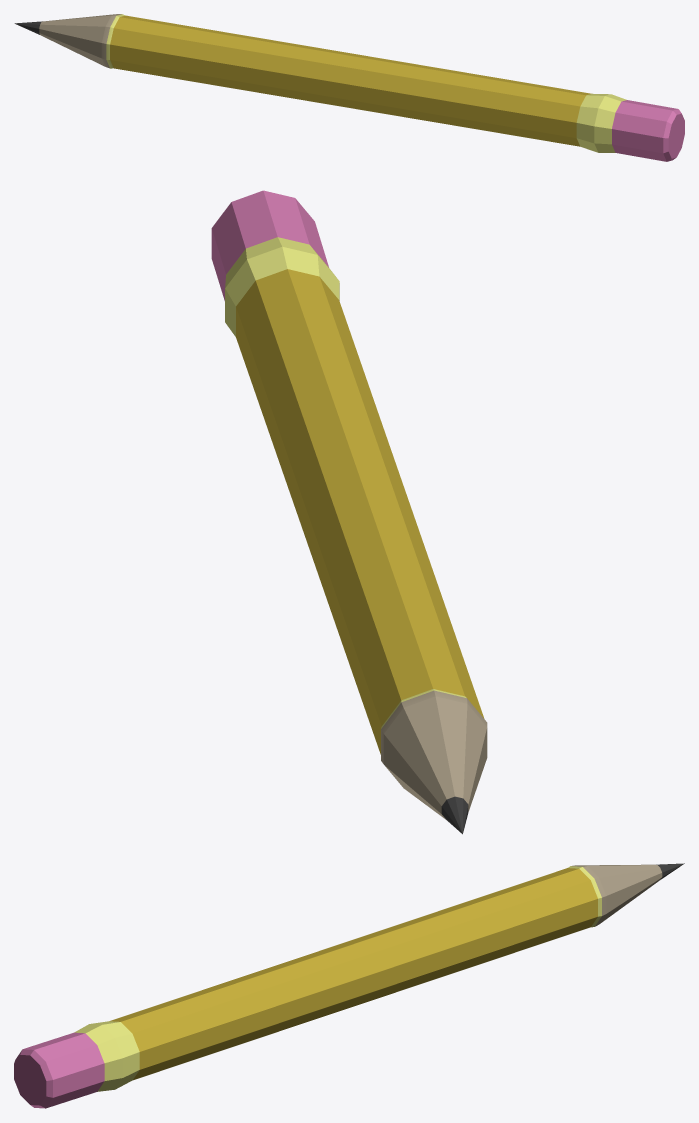
The model's file is Pencil_01.fbx.
The picture shows the model from 3 angles, top to bottom: view 1: azimuth 30°, elevation 25°; view 2: azimuth 150°, elevation 25°; view 3: azimuth 270°, elevation 25°; orthographic projection. The views are drawn at different scales.
Visible parts, largest first — view 1: Pencil_01; view 2: Pencil_01; view 3: Pencil_01.
Part boxes in pixels (left/top/right/bottom): Pencil_01: left=14, top=14, right=684, bottom=161; Pencil_01: left=211, top=190, right=487, bottom=834; Pencil_01: left=14, top=863, right=684, bottom=1108.
Bounding box in the file's own units: 3.69 × 0.4896 × 4.64.
